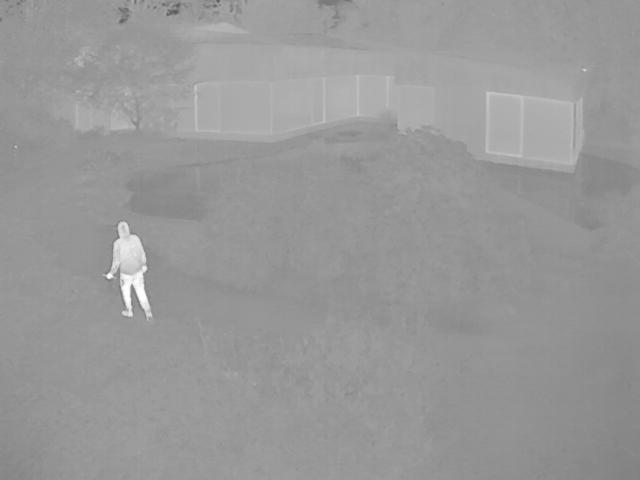person: (108, 221, 156, 316)
